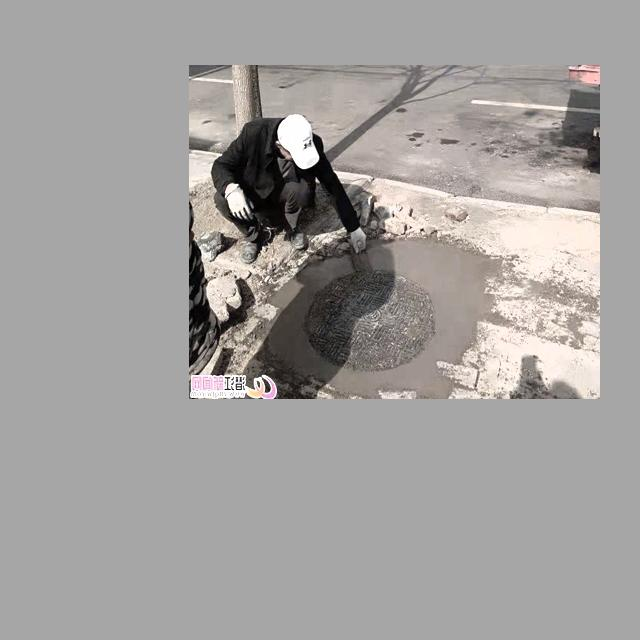good: (260, 237, 488, 391)
